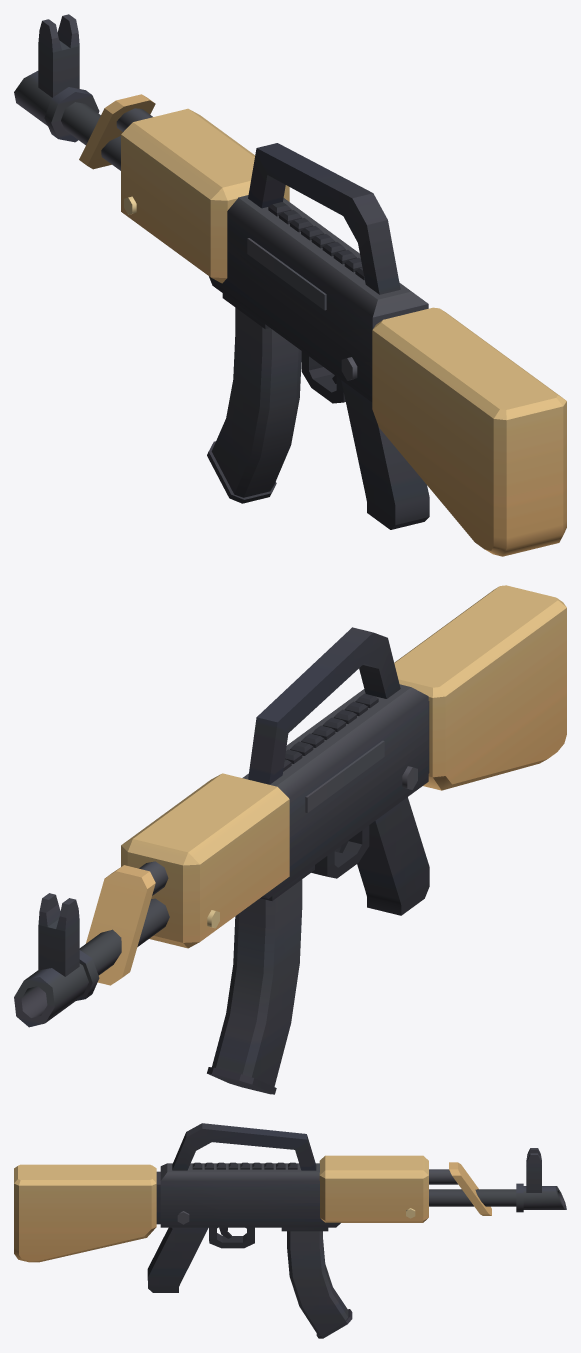
The model's file is Agent_Handheld_Gun1_Template.fbx.
3 views of the same model, one above another, from view 1: azimuth 30°, elevation 25°; view 2: azimuth 150°, elevation 25°; view 3: azimuth 270°, elevation 25° (orthographic). The views are drawn at different scales.
Visible parts, largest first — view 1: MachineGun04; view 2: MachineGun04; view 3: MachineGun04.
Boxes of the visible parts, left/top/right/bottom form: MachineGun04: left=14, top=14, right=566, bottom=556; MachineGun04: left=14, top=585, right=566, bottom=1094; MachineGun04: left=14, top=1123, right=566, bottom=1338.
Size of the model in its own units: 0.0804 by 0.3357 by 0.8042.
